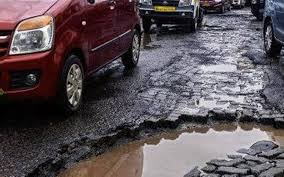pothole: (64, 112, 284, 172), (198, 62, 248, 106)
